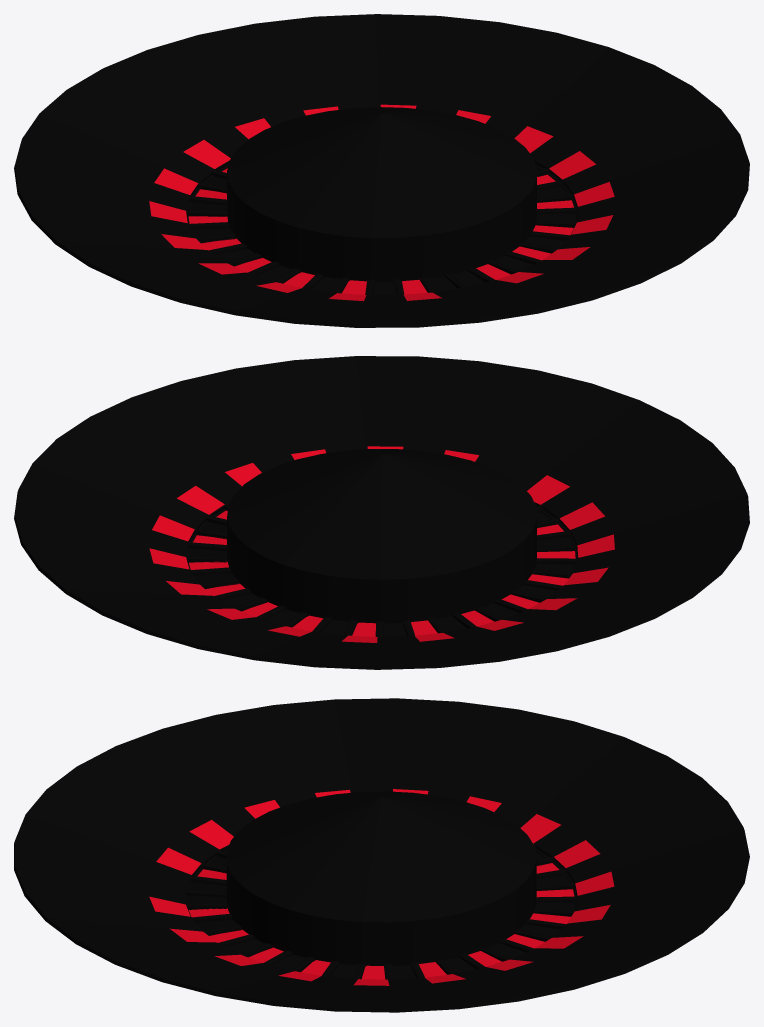
File: Roulette.fbx
3 views of the same model, one above another, from view 1: azimuth 30°, elevation 25°; view 2: azimuth 150°, elevation 25°; view 3: azimuth 270°, elevation 25° (orthographic).
Parts seen in each view (by area): view 1: Circle, Cylinder; view 2: Circle, Cylinder; view 3: Circle, Cylinder.
Boxes of the visible parts, x1,y1,x2,y2 form: Circle: (14,14,749,327); Cylinder: (227,107,536,282); Circle: (14,356,749,669); Cylinder: (227,449,536,623); Circle: (14,698,749,1012); Cylinder: (226,791,536,966).
Bounding box in the file's own units: 190 × 30.04 × 190.
